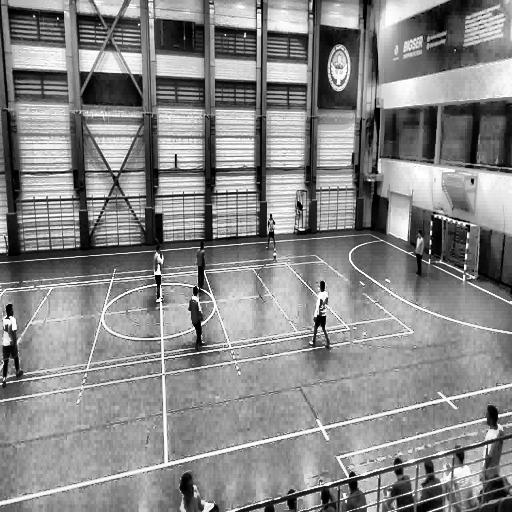ball: (271, 250, 278, 260)
player: (0, 303, 24, 384), (308, 280, 330, 350), (190, 284, 206, 349), (153, 244, 164, 304), (196, 240, 206, 294), (414, 229, 424, 276), (266, 213, 276, 255)
